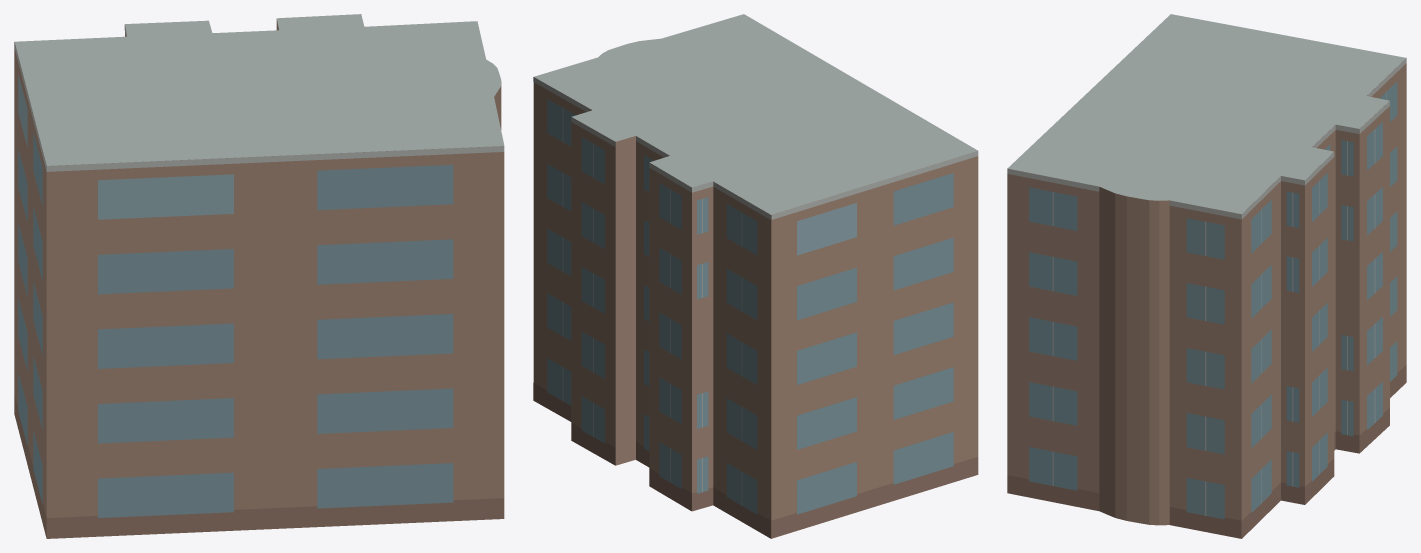
File: survey-upis-32781287.glb
3 views of the same model, side by side, from view 1: azimuth 30°, elevation 25°; view 2: azimuth 150°, elevation 25°; view 3: azimuth 270°, elevation 25° (orthographic). The views are drawn at different scales.
Visible parts, largest first — view 1: survey-upis-32781287.tmp; view 2: survey-upis-32781287.tmp; view 3: survey-upis-32781287.tmp.
Part boxes in pixels (left/top/right/bottom): survey-upis-32781287.tmp: left=14, top=14, right=504, bottom=538; survey-upis-32781287.tmp: left=533, top=14, right=978, bottom=538; survey-upis-32781287.tmp: left=1007, top=14, right=1406, bottom=538.
Size of the model in its own units: 20.23 by 15.28 by 17.04.
